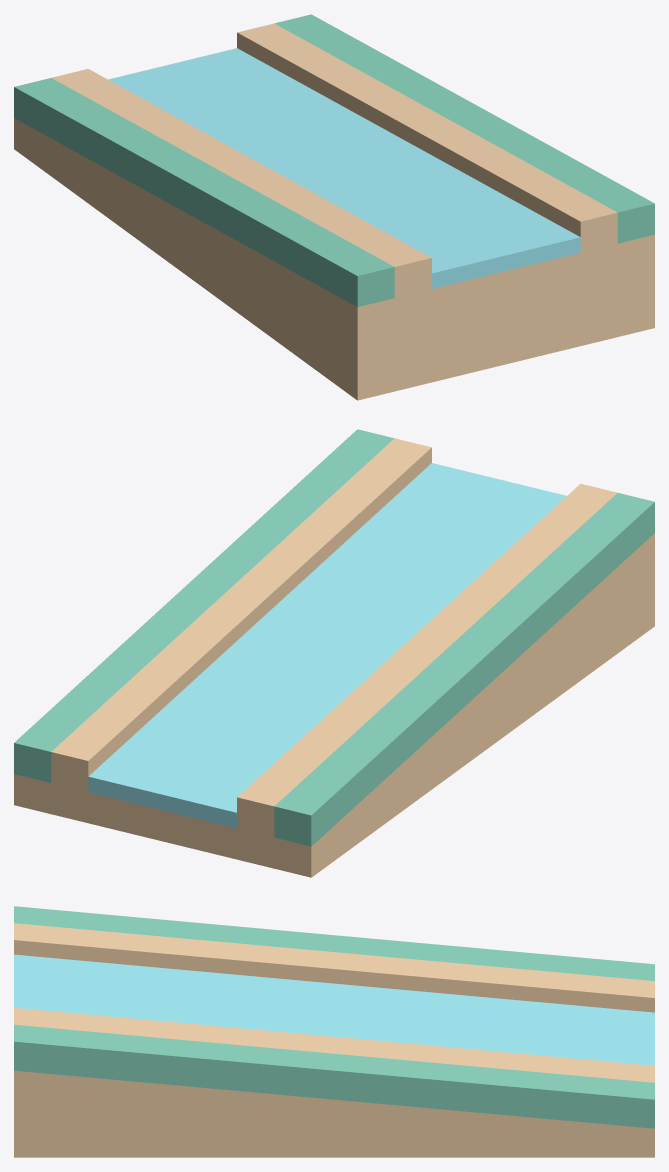
File: tile_riverSlopeLarge.glb
3 views of the same model, one above another, from view 1: azimuth 30°, elevation 25°; view 2: azimuth 150°, elevation 25°; view 3: azimuth 270°, elevation 25° (orthographic). The views are drawn at different scales.
Parts seen in each view (by area): view 1: tile_riverSlopeLarge; view 2: tile_riverSlopeLarge; view 3: tile_riverSlopeLarge.
Part boxes in pixels (box(x1,y1,x2,y2)): tile_riverSlopeLarge: box(14, 14, 654, 400); tile_riverSlopeLarge: box(14, 429, 654, 877); tile_riverSlopeLarge: box(14, 906, 654, 1157).
Bounding box in the file's own units: 1 × 0.4 × 2.
